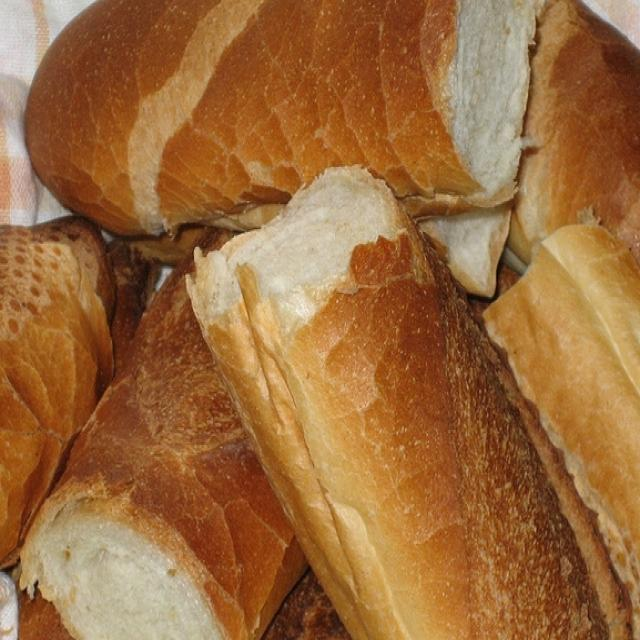面包点心: (8, 10, 629, 634)
